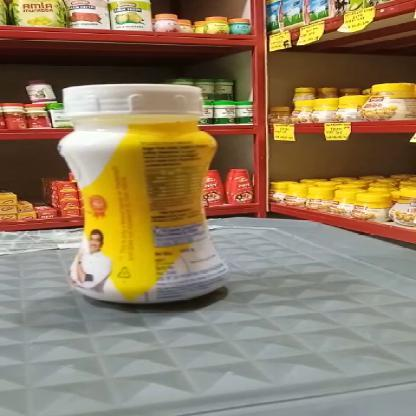SUGAR FREE GOLD POWDER 100GM: (56, 83, 235, 305)
